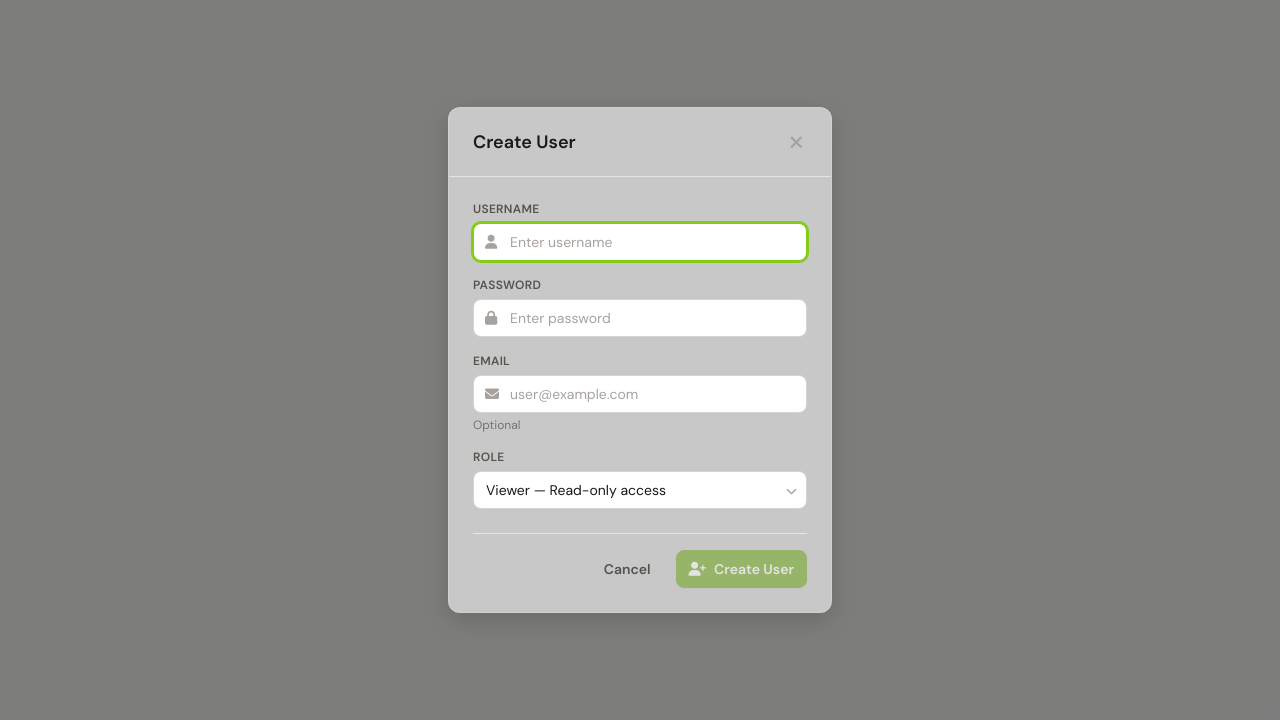
it: UserCreateModal › surfaces an Error message from a failed apiRequest
The width and height of the screenshot is (1280, 720).
In the field with placeholder "Enter username": (640, 242) [473,223,807,261], type "alice"
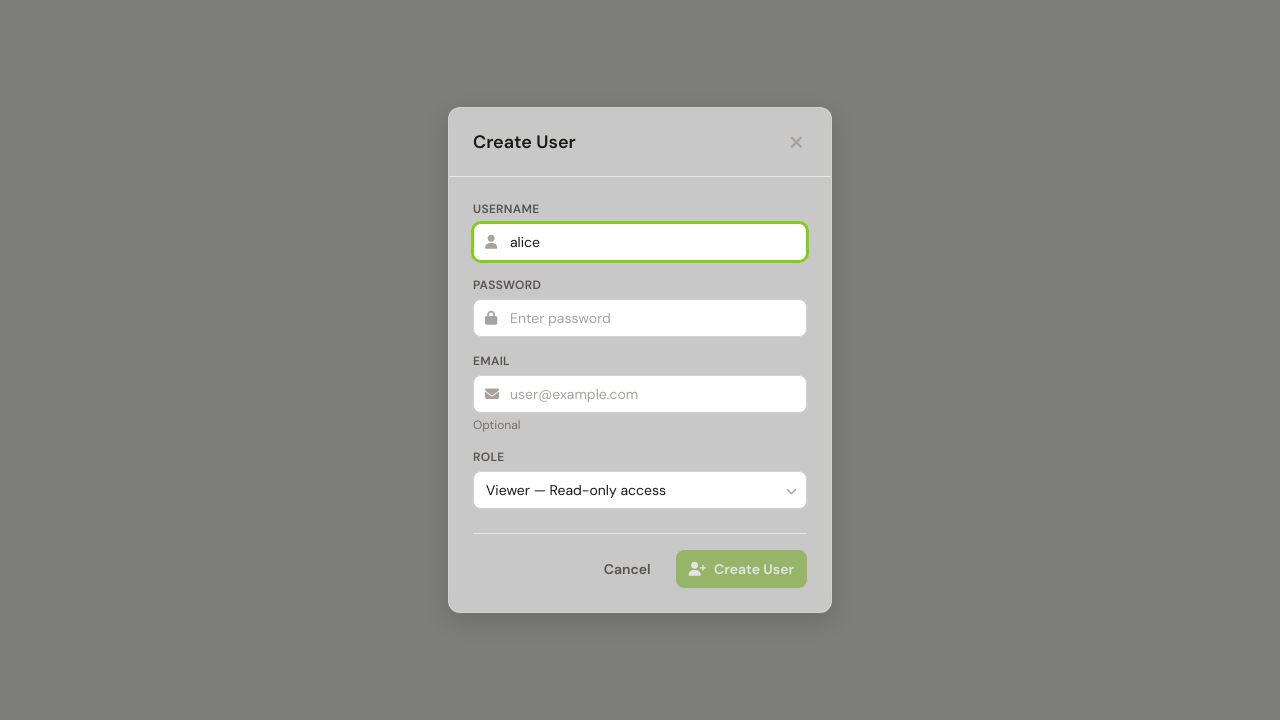
In the password field with placeholder "Enter password": (640, 318) [473,299,807,337], type "pw1234"
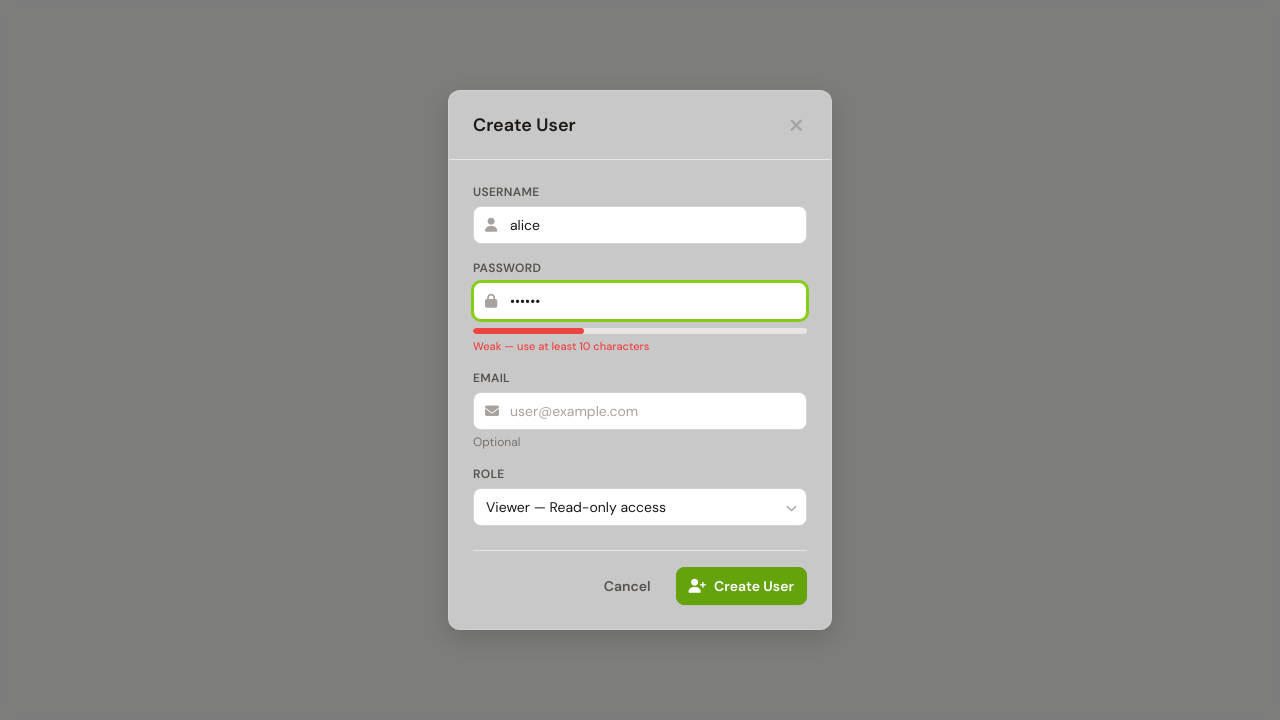
Click the button "Create User": (741, 586) [676,567,807,605]
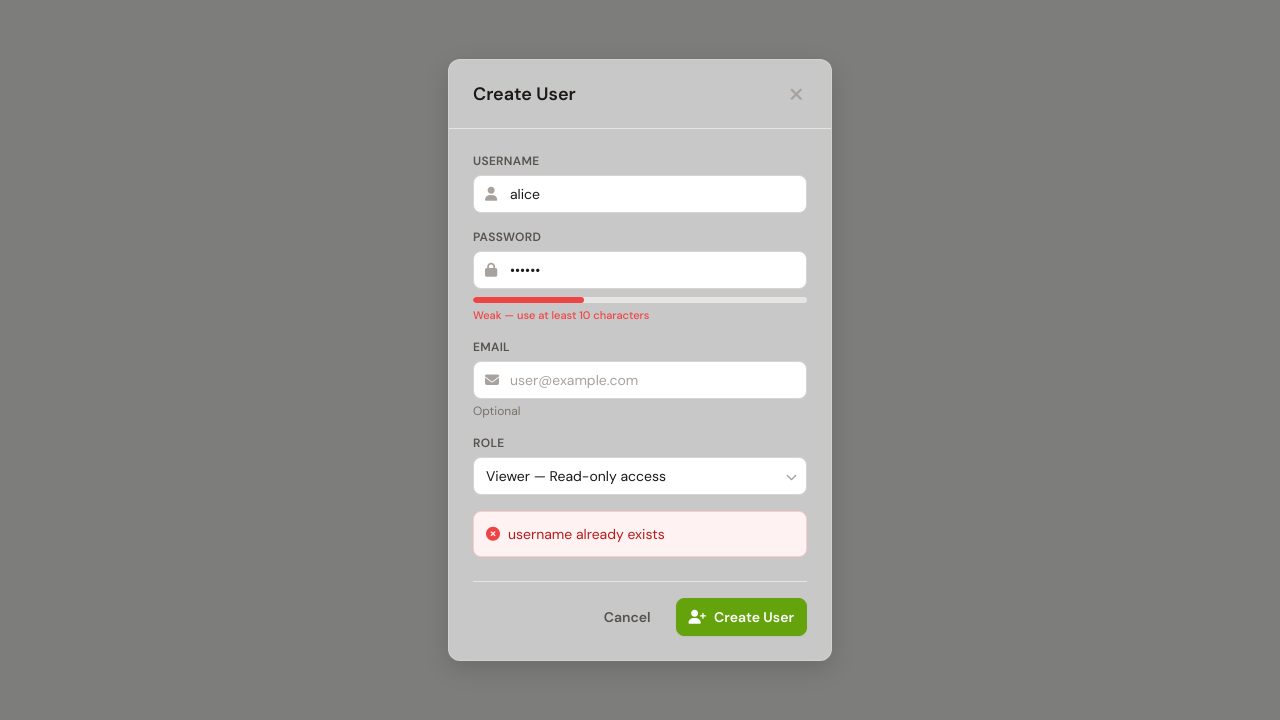
Expected: the text "username already exists" is shown, [473,511,807,557]
